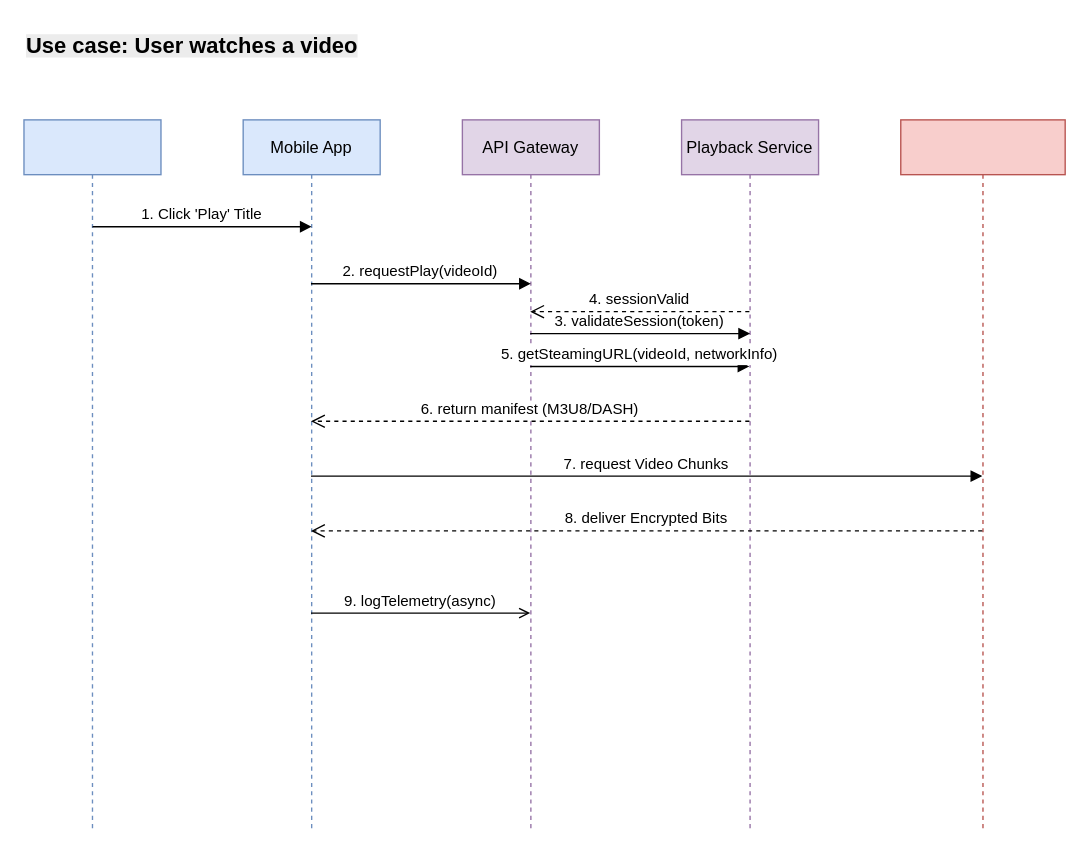
The diagram is 1089 pixels wide and 856 high, and some of its shapes have lost their labels. Each missing label, with the box of its shape:
Open Connect (CDN): (899, 119, 1065, 832)
Subscriber: (23, 119, 161, 832)
